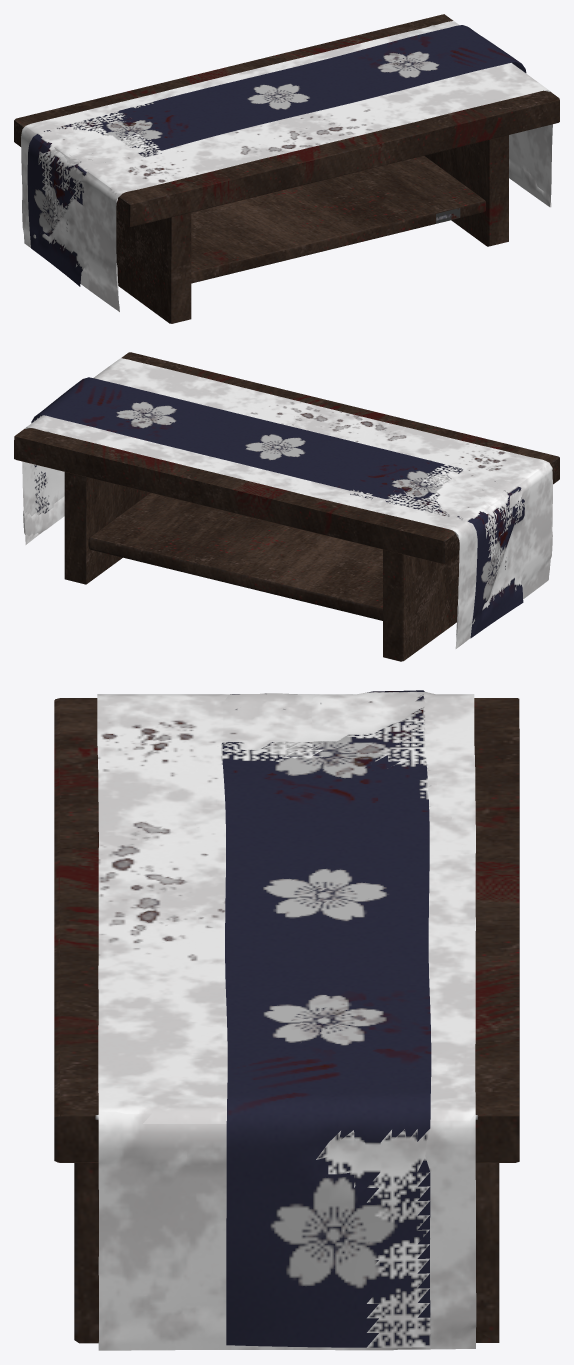
The model's file is chabudai.glb.
The picture shows the model from 3 angles, top to bottom: view 1: azimuth 30°, elevation 25°; view 2: azimuth 150°, elevation 25°; view 3: azimuth 270°, elevation 25°; orthographic projection. The views are drawn at different scales.
Parts seen in each view (by area): view 1: mesh; view 2: mesh; view 3: mesh.
Part boxes in pixels (x1=…): mesh: x1=14, y1=14, x2=559, y2=323; mesh: x1=14, y1=352, x2=559, y2=661; mesh: x1=54, y1=690, x2=519, y2=1350.
Bounding box in the file's own units: 1.06 × 0.32 × 0.4726.
1 material, 1 textured.
